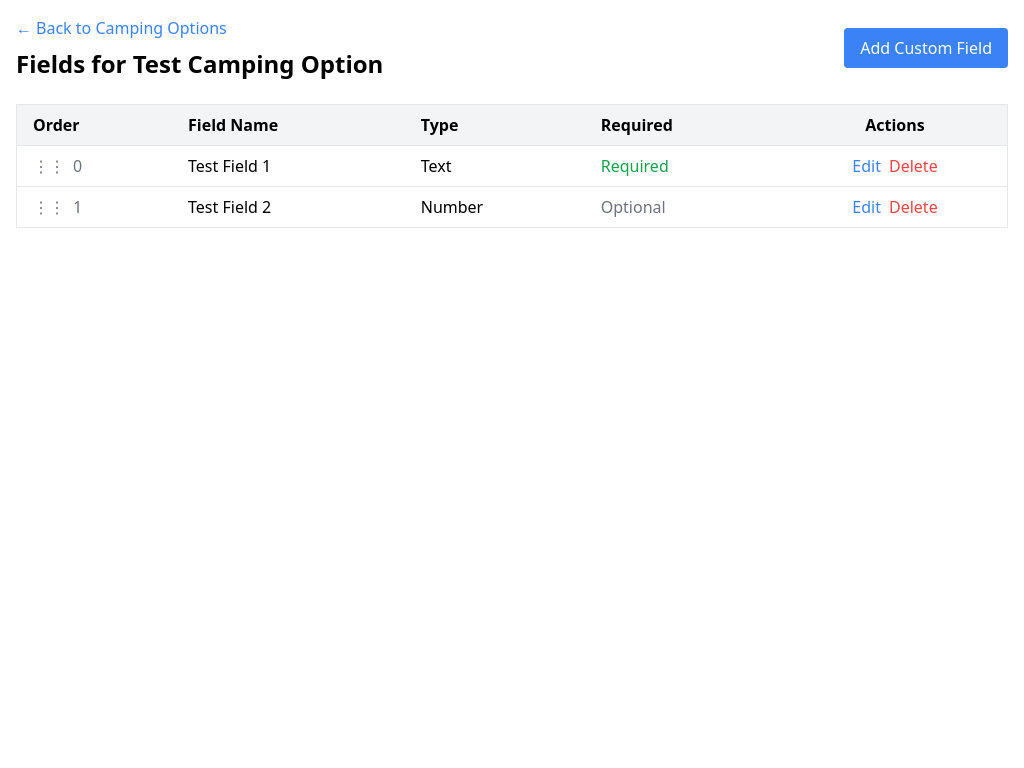
AdminCampingOptionFieldsPage › should open the edit modal with field data when Edit button is clicked
// Find and click the first Edit button
Click the button "Edit" in the row of "Test Field 1" at (867, 166), box [852,154,881,178]
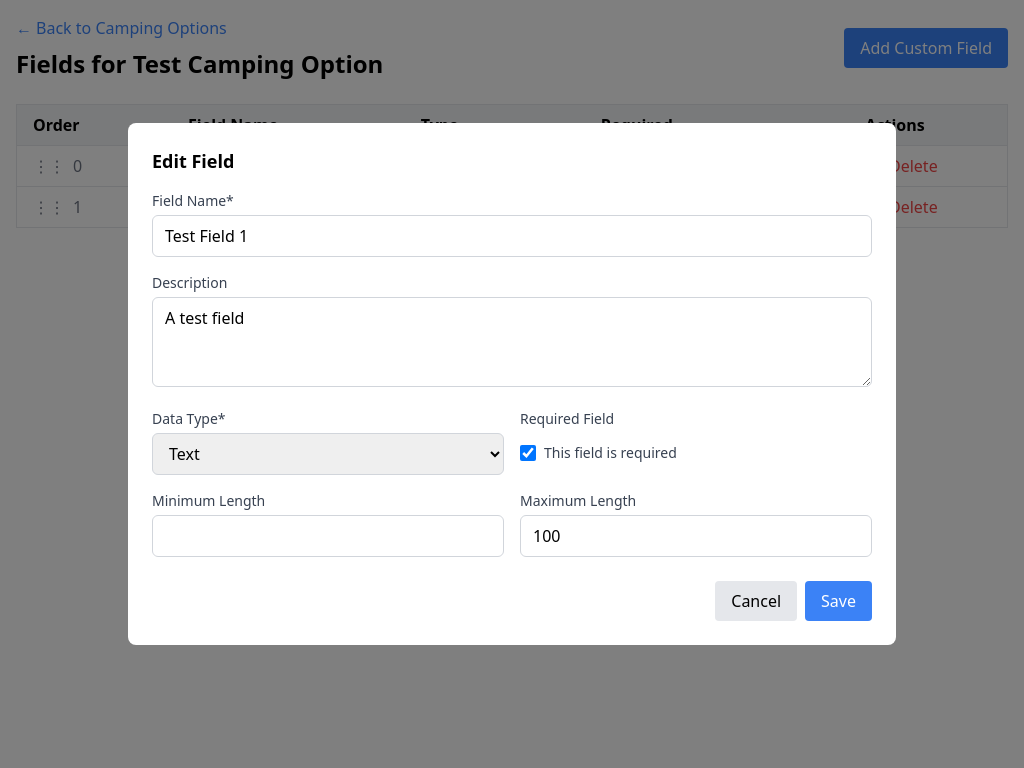
Result: the heading "Edit Field" is shown at [152,149,234,173]
Result: the field labelled "Field Name*" holds "Test Field 1" at [152,215,872,257]
